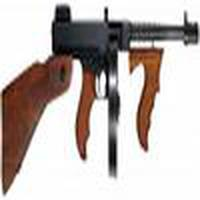gun: (1, 5, 200, 187)
